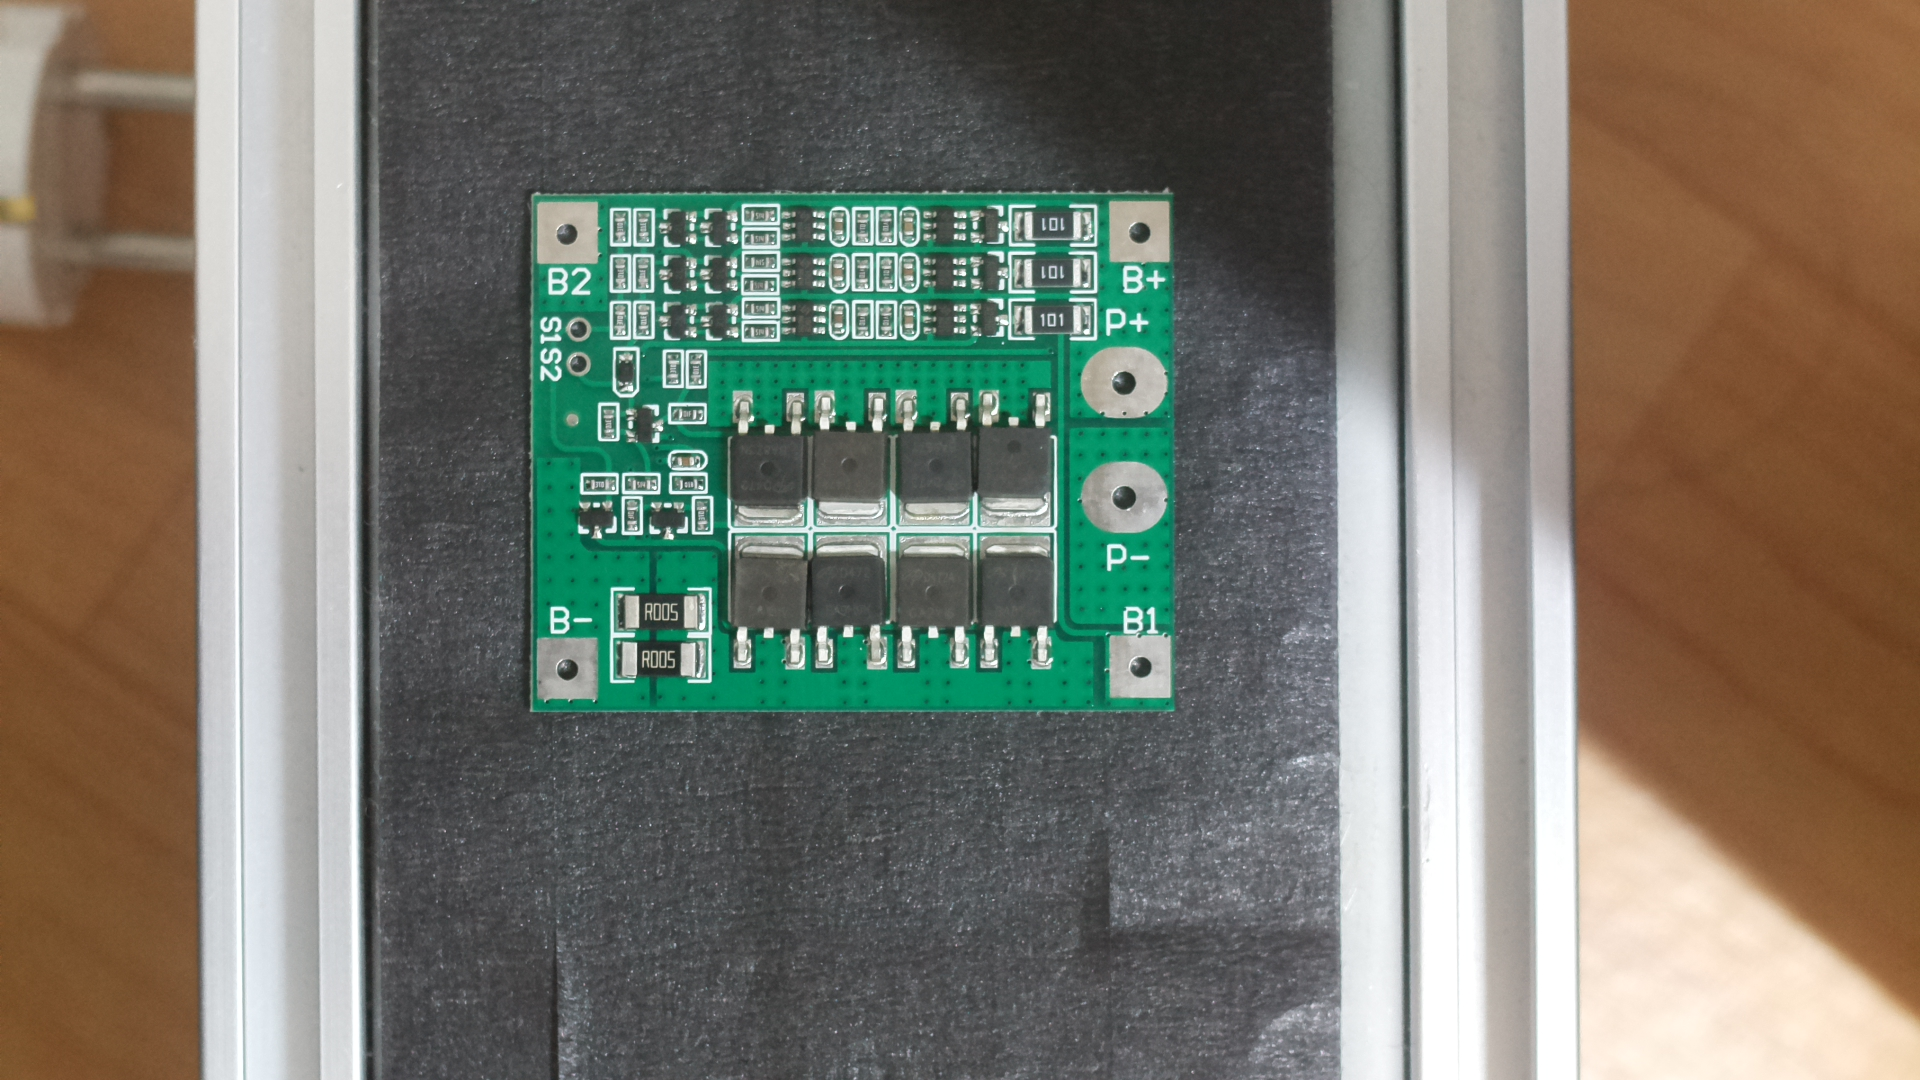C_Normal: (502, 170, 1191, 731)
